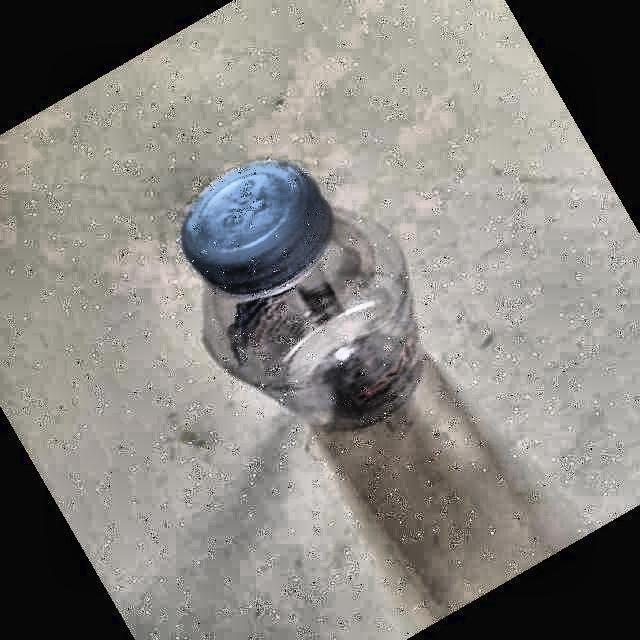plastic: (182, 161, 419, 428)
